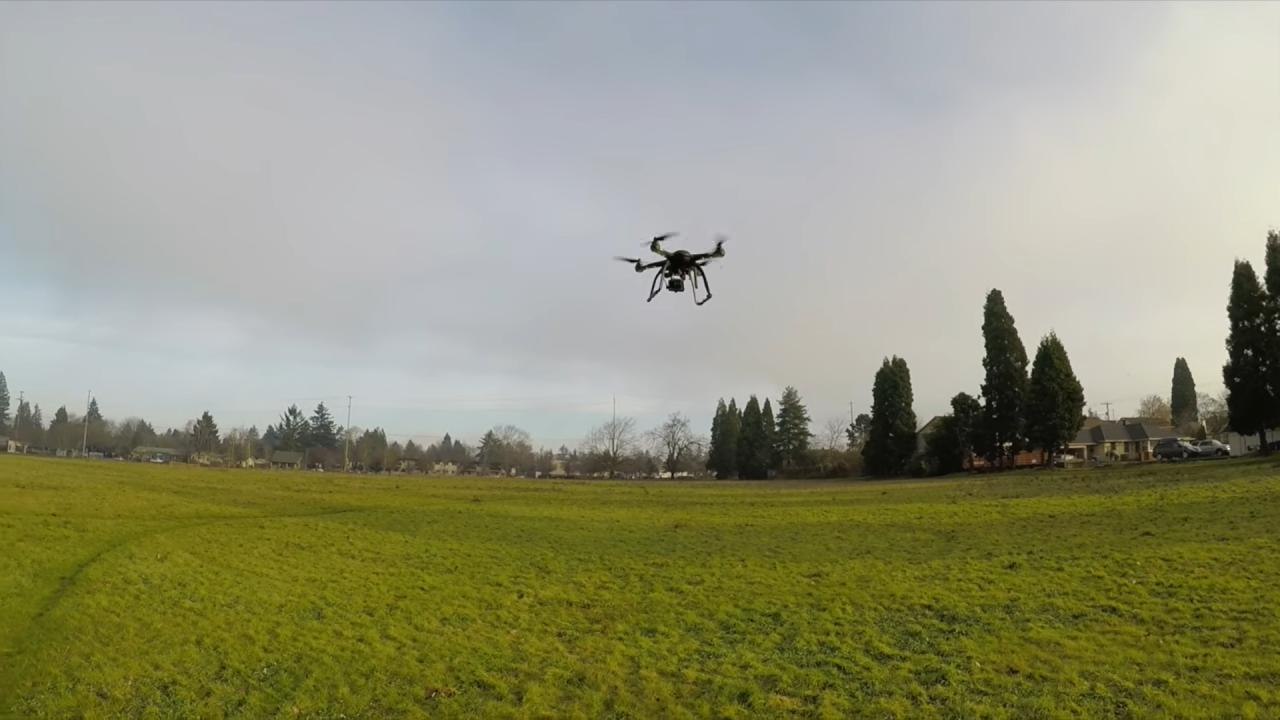Drone: (601, 221, 750, 314)
